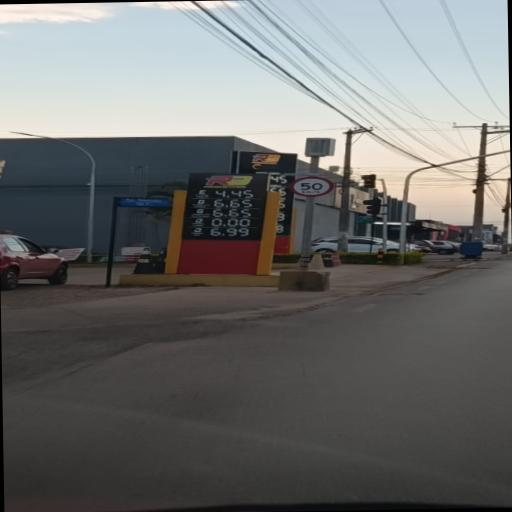ETANOL: (192, 189, 214, 198)
GASOLINA AD: (190, 208, 212, 218)
GASOLINA C: (192, 198, 213, 208)
S10: (191, 227, 208, 237)
placa: (188, 172, 270, 248)
preco: (210, 227, 252, 239), (213, 198, 253, 208), (215, 189, 255, 199), (214, 208, 252, 218)
